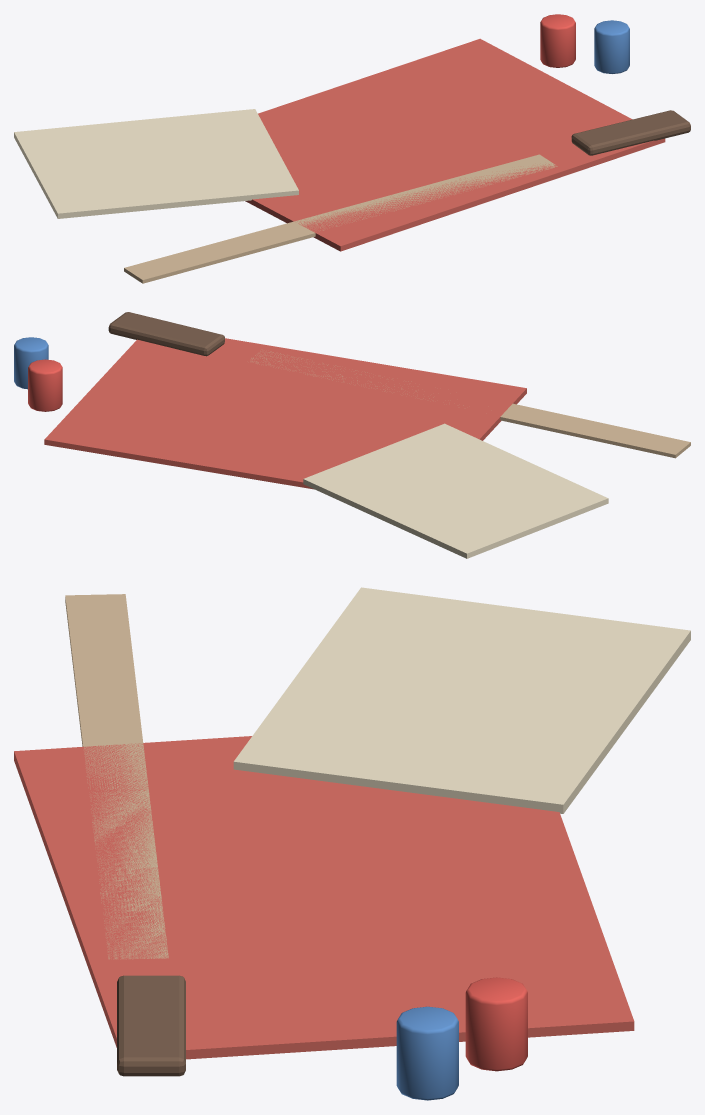
Rendered from v2_sewing_clutter.fbx.
The picture shows the model from 3 angles, top to bottom: view 1: azimuth 30°, elevation 25°; view 2: azimuth 150°, elevation 25°; view 3: azimuth 270°, elevation 25°; orthographic projection. The views are drawn at different scales.
Parts seen in each view (by area): view 1: FabricPiece, FabricPiece2, Ruler, Glasses, SpoolT, SpoolT2; view 2: FabricPiece, FabricPiece2, Ruler, Glasses, SpoolT, SpoolT2; view 3: FabricPiece, FabricPiece2, Ruler, Glasses, SpoolT, SpoolT2.
Boxes of the visible parts, box(x1,y1,x2,y2) form: FabricPiece: box(245, 38, 665, 251); FabricPiece2: box(14, 109, 298, 218); Ruler: box(124, 154, 557, 283); Glasses: box(571, 110, 690, 155); SpoolT: box(540, 14, 575, 67); SpoolT2: box(594, 20, 629, 73); FabricPiece: box(44, 338, 526, 489); FabricPiece2: box(303, 423, 608, 558); Ruler: box(250, 351, 690, 458); Glasses: box(108, 312, 224, 356); SpoolT: box(28, 359, 62, 411); SpoolT2: box(14, 337, 48, 389); FabricPiece: box(14, 736, 634, 1059); FabricPiece2: box(233, 587, 690, 813); Ruler: box(65, 594, 168, 959); Glasses: box(117, 975, 185, 1076); SpoolT: box(465, 977, 527, 1071); SpoolT2: box(396, 1006, 458, 1100).
Bounding box in the file's own units: 0.6886 × 0.0475 × 0.3922.
